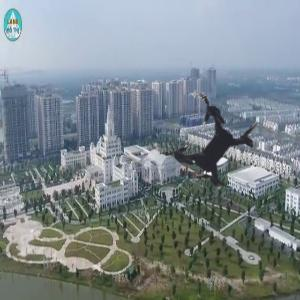drone: (126, 62, 295, 231)
